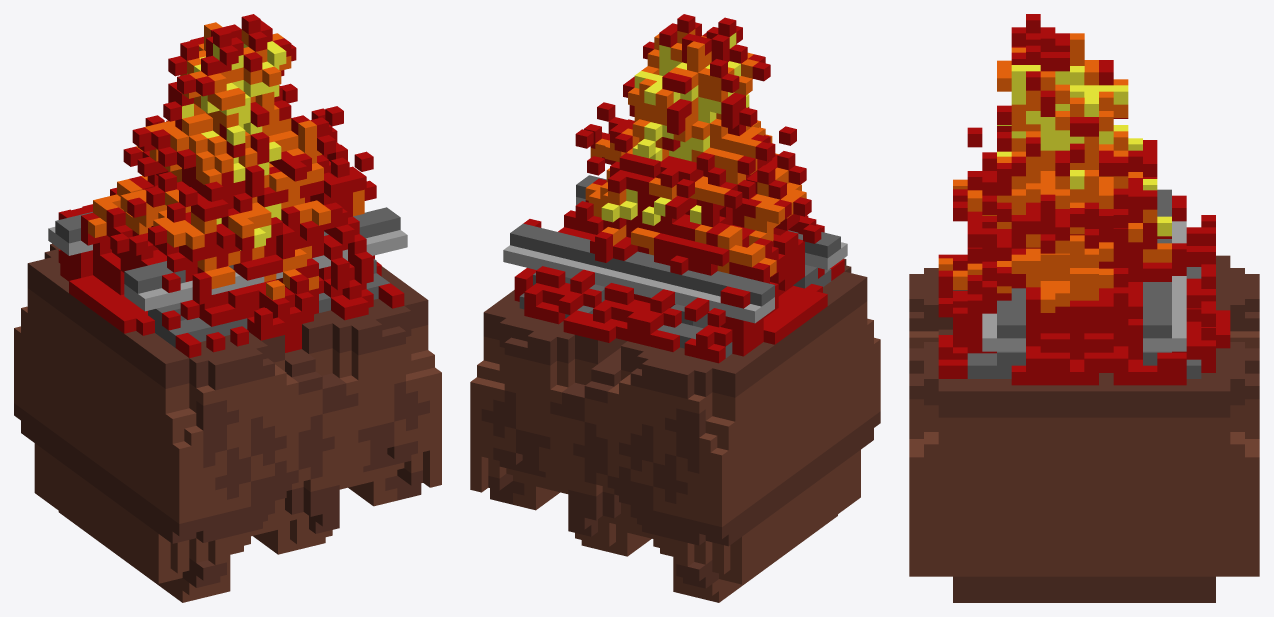
File: rail fire 2.obj
3 renders of one model, left to right at view 1: azimuth 30°, elevation 25°; view 2: azimuth 150°, elevation 25°; view 3: azimuth 270°, elevation 25°, orthographic. The views are drawn at different scales.
Size of the model in its own units: 2.2 by 4.2 by 2.4.
Materials: 1 (1 with a texture image).
